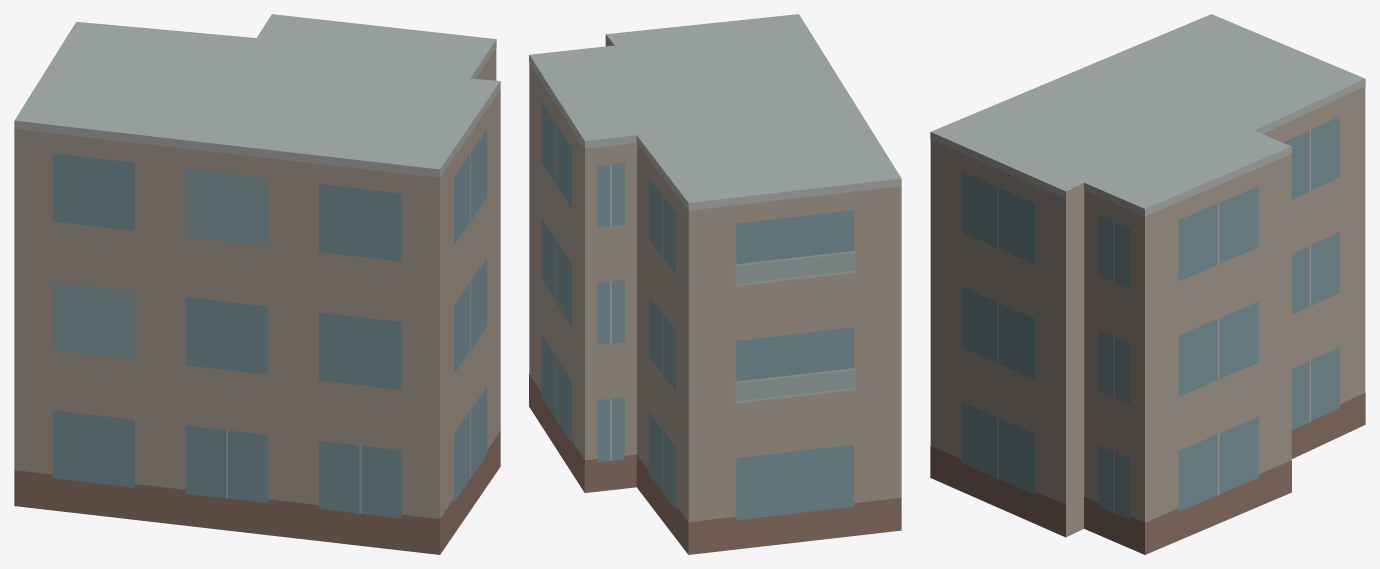
The model's file is survey-upis-32884474.glb.
3 views of the same model, side by side, from view 1: azimuth 30°, elevation 25°; view 2: azimuth 150°, elevation 25°; view 3: azimuth 270°, elevation 25° (orthographic). The views are drawn at different scales.
Parts seen in each view (by area): view 1: survey-upis-32884474.tmp; view 2: survey-upis-32884474.tmp; view 3: survey-upis-32884474.tmp.
Boxes of the visible parts, x1,y1,x2,y2 form: survey-upis-32884474.tmp: (14,14,500,554); survey-upis-32884474.tmp: (529,14,901,554); survey-upis-32884474.tmp: (930,14,1365,554).
Size of the model in its own units: 13.54 by 11.2 by 12.77.
